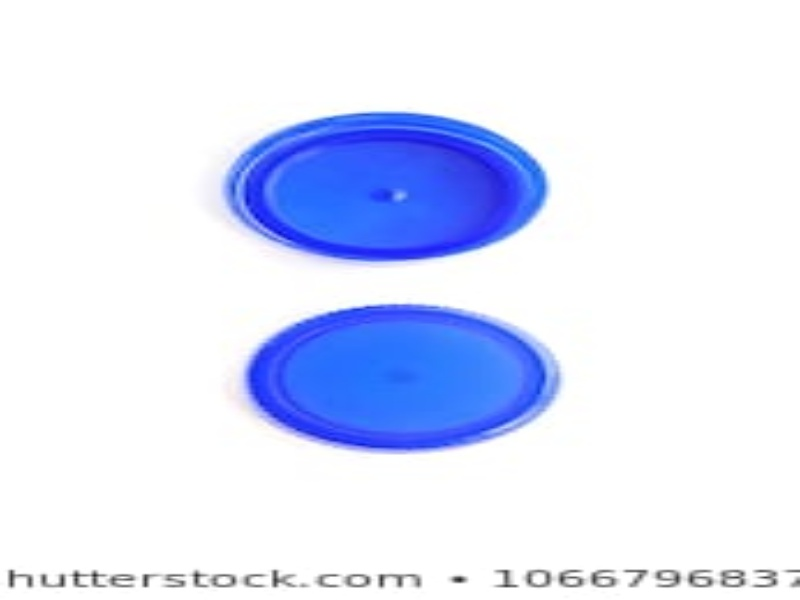bottle-cap: (220, 108, 551, 259), (244, 300, 558, 451)
